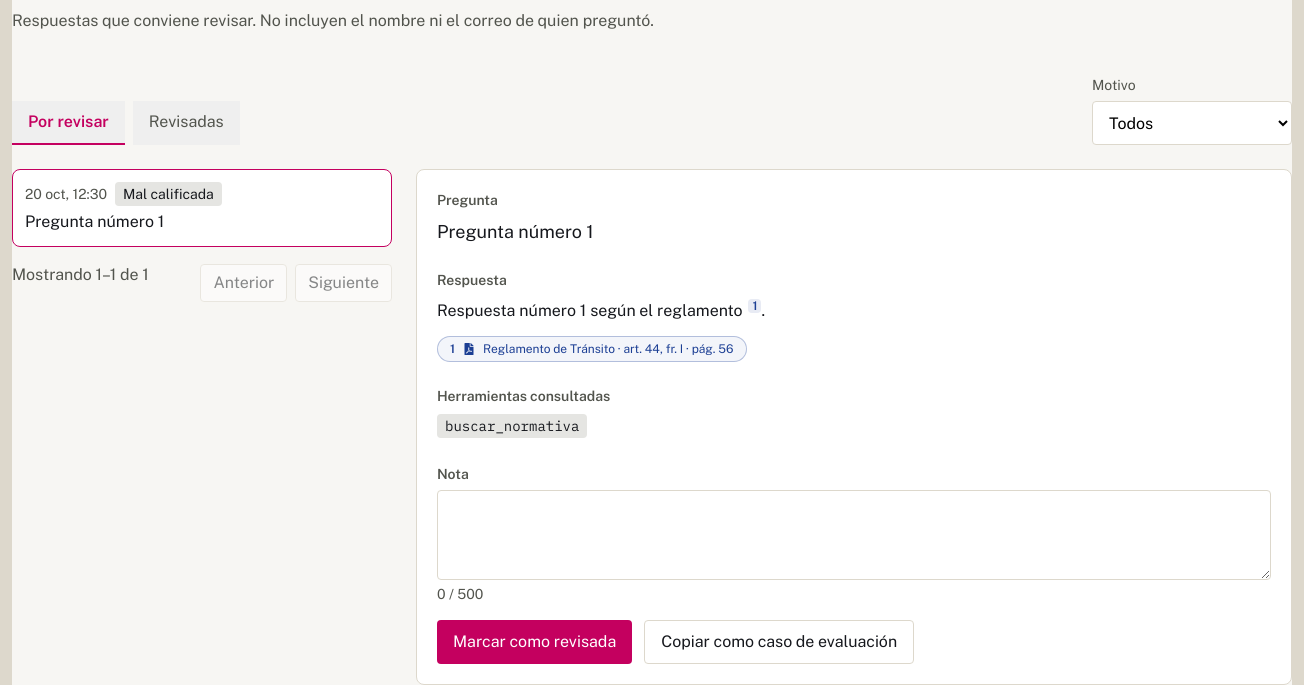
Scenario: Calidad › si el portapapeles falla, lo dice y deja la línea para copiarla a mano
Click the button "Copiar como caso de evaluación" at (779, 642), box x1=644 y1=620 x2=914 y2=664
(page scrolled)
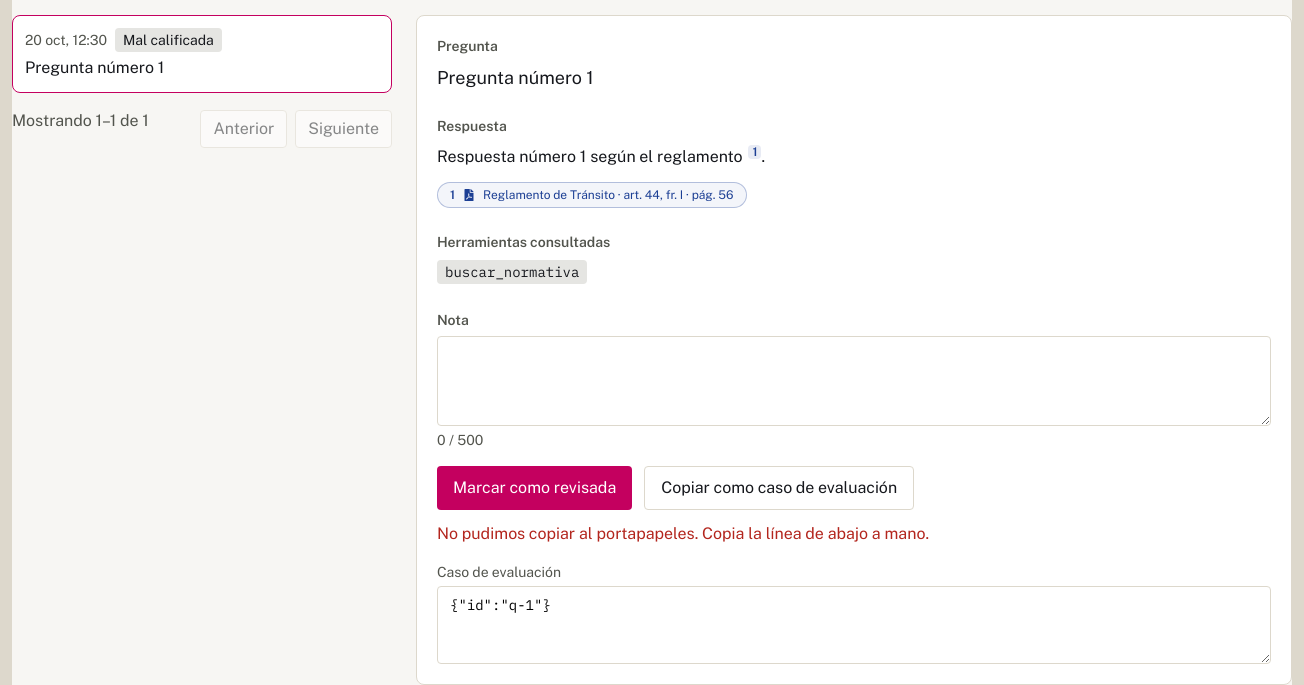
Expected: the message shows "No pudimos copiar al portapapeles", x1=437 y1=524 x2=929 y2=543
Expected: the text box labelled "Caso de evaluación" holds "{\"id\":\"q-1\"}", x1=437 y1=586 x2=1271 y2=664
